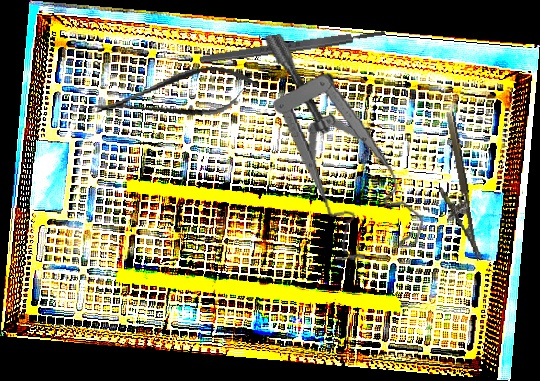Micro Scissor: (90, 58, 262, 132)
Needle Holder: (426, 110, 482, 266)
Scalpel Handle: (199, 28, 386, 65)
Speculum: (263, 21, 427, 267)
